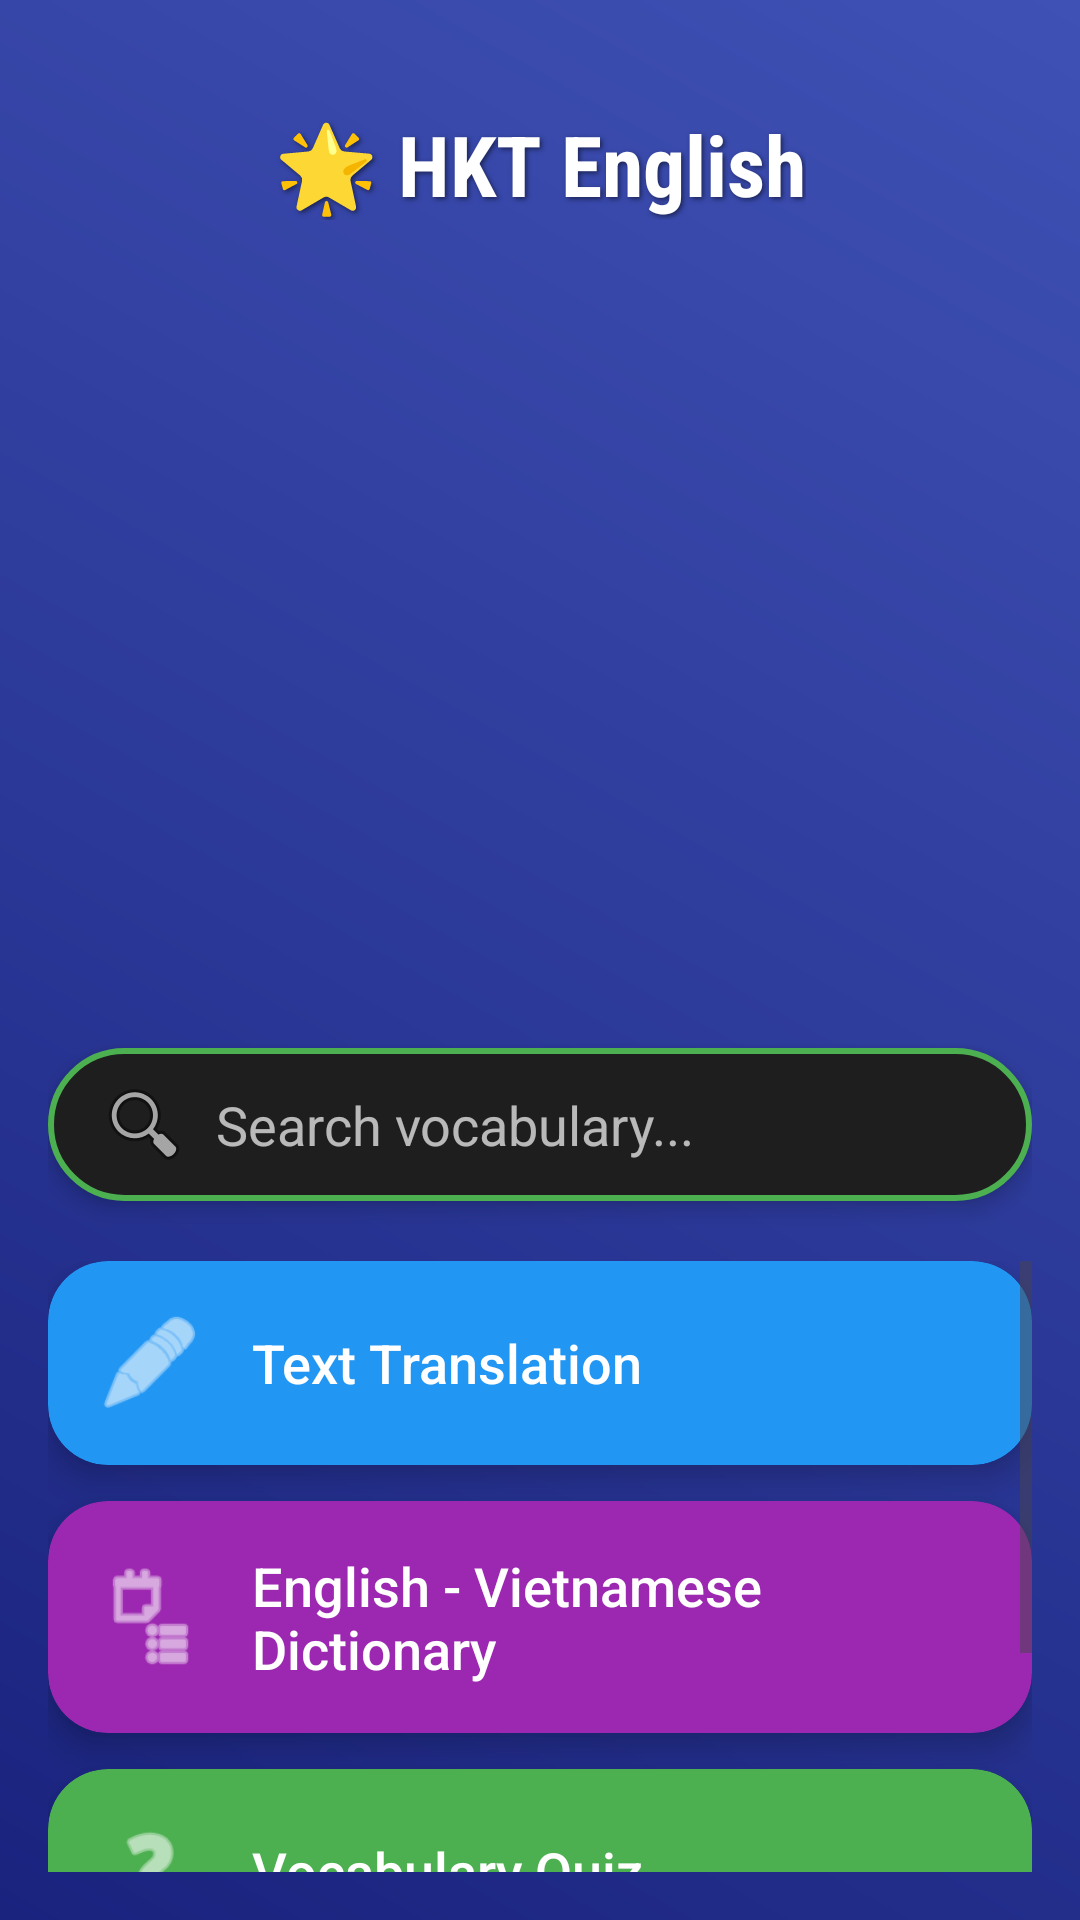

Named icons in this screenshot (1080px×1920px) and their bounding boxes, [x1=x1, y1=y1, x2=x2, y2=y2]:
agenda: [x1=113, y1=1568, x2=188, y2=1664]
edit: [x1=104, y1=1317, x2=195, y2=1408]
